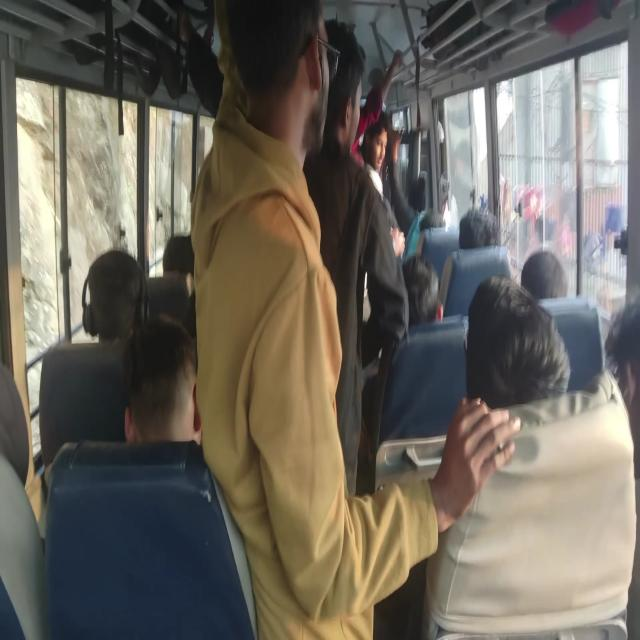person: (222, 8, 340, 178), (454, 294, 559, 430), (142, 325, 221, 456), (68, 224, 146, 353), (0, 378, 44, 579), (308, 46, 362, 161), (378, 252, 438, 334), (141, 216, 192, 289), (597, 311, 640, 387), (517, 246, 573, 292), (364, 100, 394, 176), (163, 274, 197, 330), (405, 212, 458, 245), (416, 176, 453, 221), (462, 206, 492, 251)
